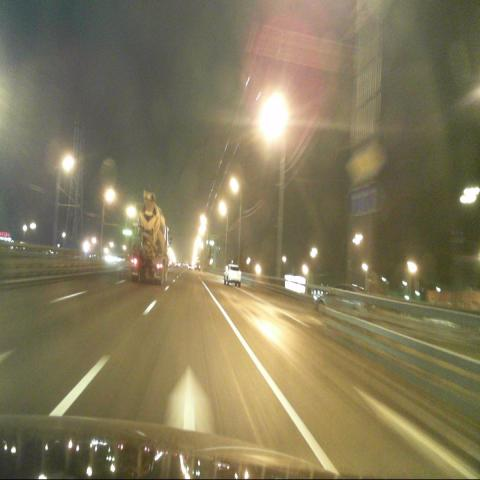2_1: (362, 140, 384, 180)
4_1_1: (364, 182, 382, 213)
